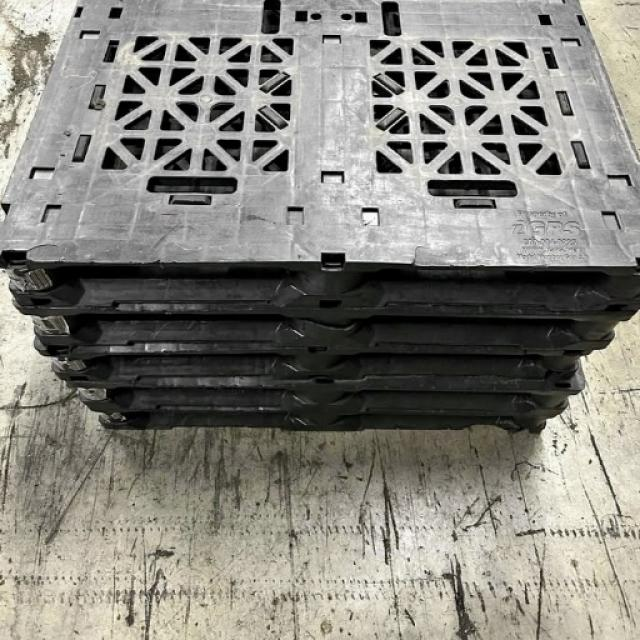igps: (0, 0, 639, 326), (7, 298, 621, 365), (59, 374, 593, 424)
